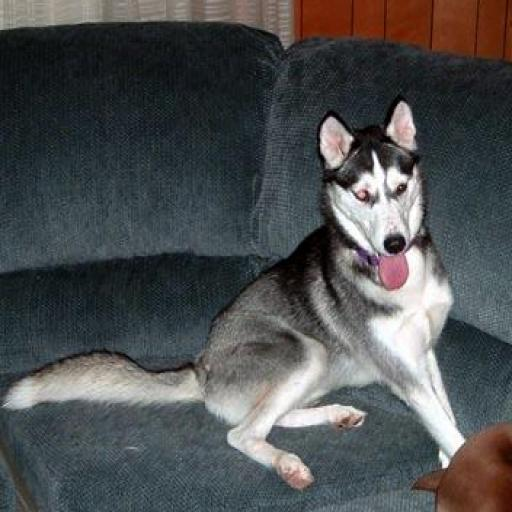dog_face: (318, 102, 424, 277)
